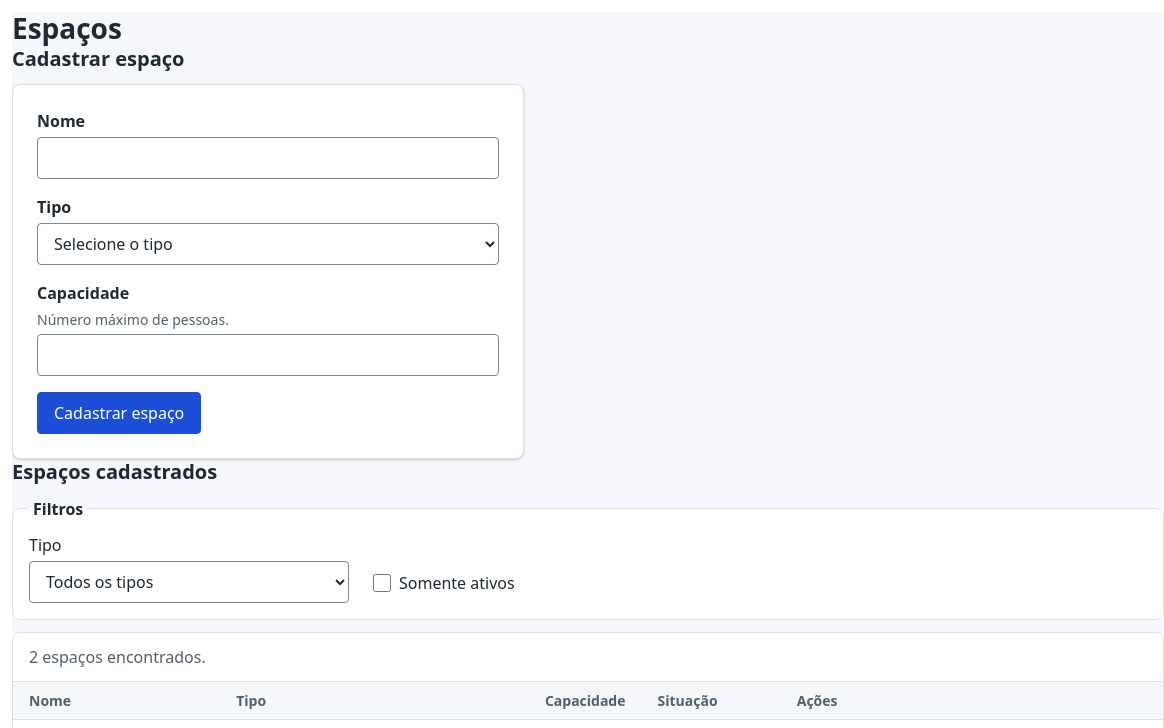
Test: PaginaEspacos › cadastro com sucesso mostra o toast, limpa o formulário e recarrega a lista
Type "Ginásio A" into the field labelled "Nome" at (268, 158), box [37,137,499,179]
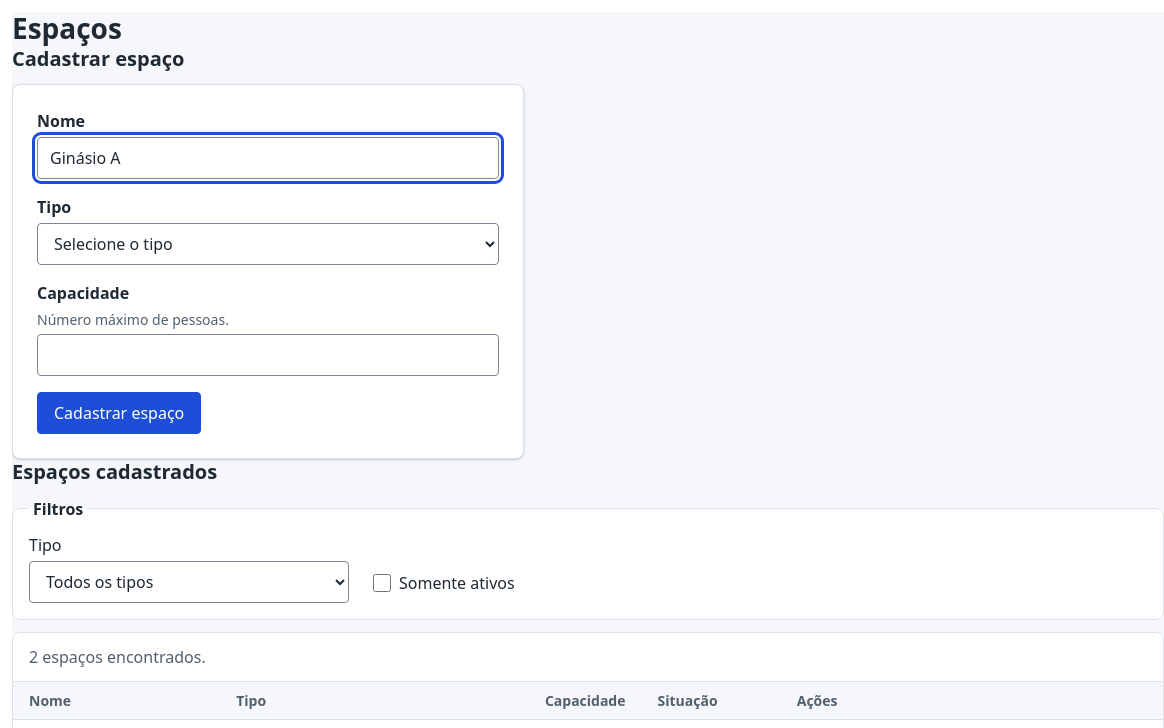
Select "Ginásio" in the 1st dropdown labelled "Tipo" at (268, 244), box [37,223,499,265]
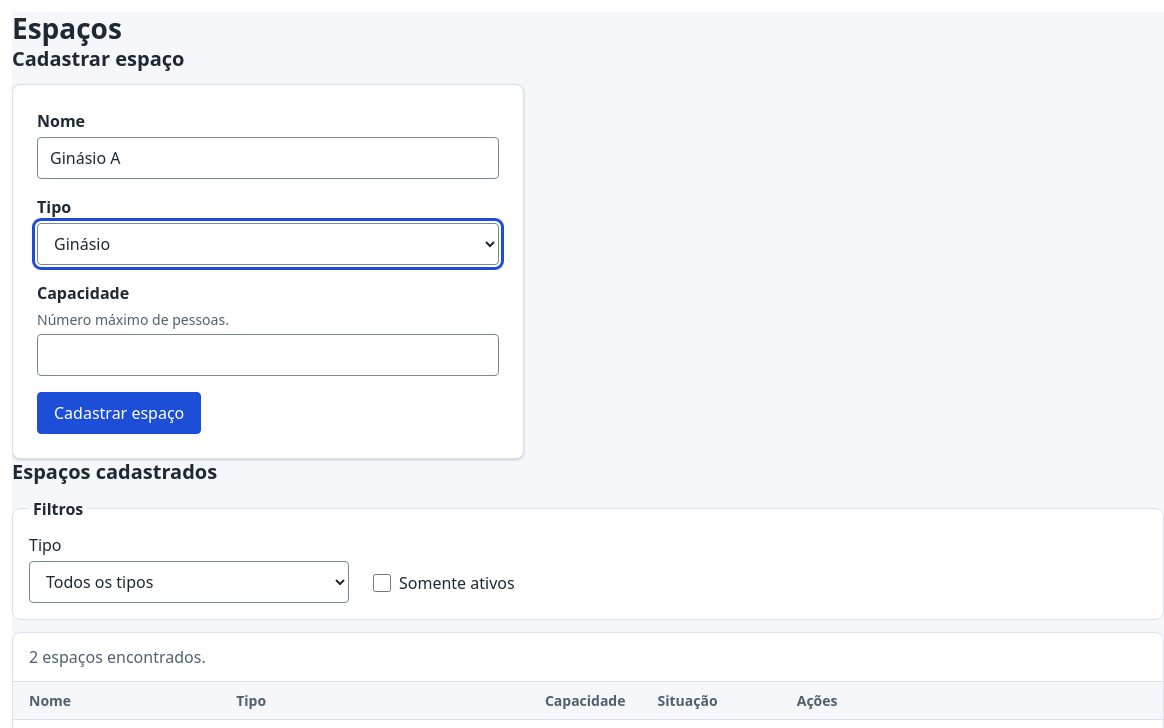
Type "50" into the number field labelled "Capacidade" at (268, 355), box [37,334,499,376]
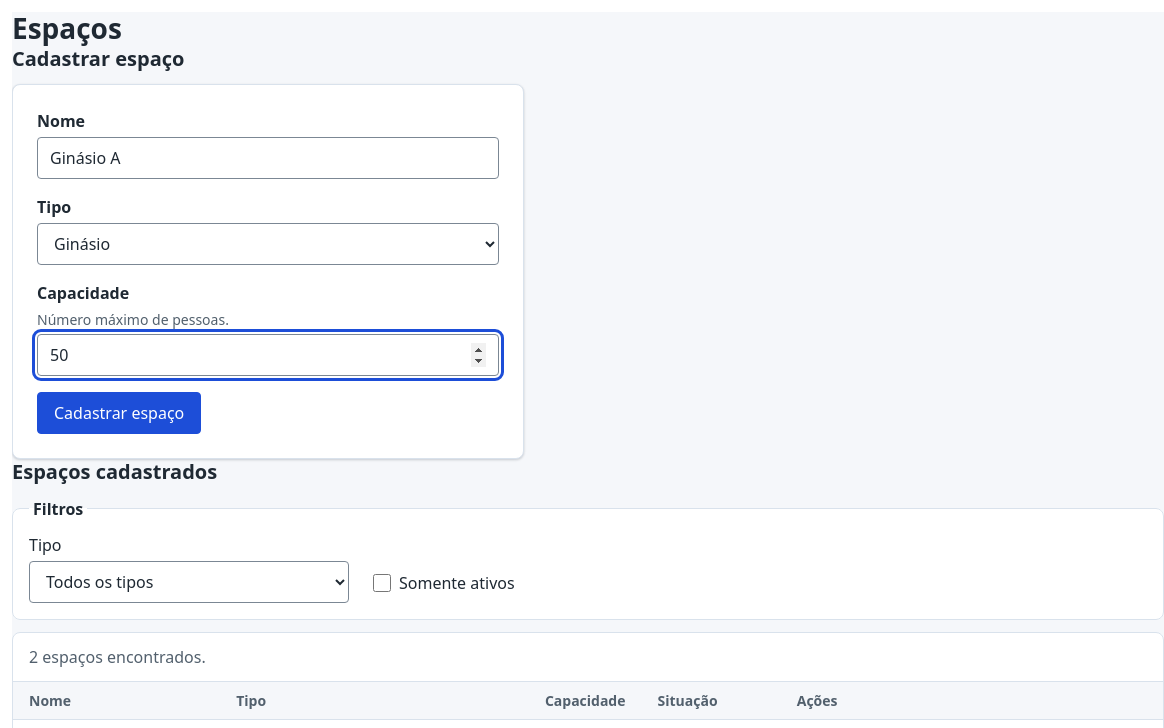
Click the button "Cadastrar espaço" at (119, 413), box [37,392,201,434]
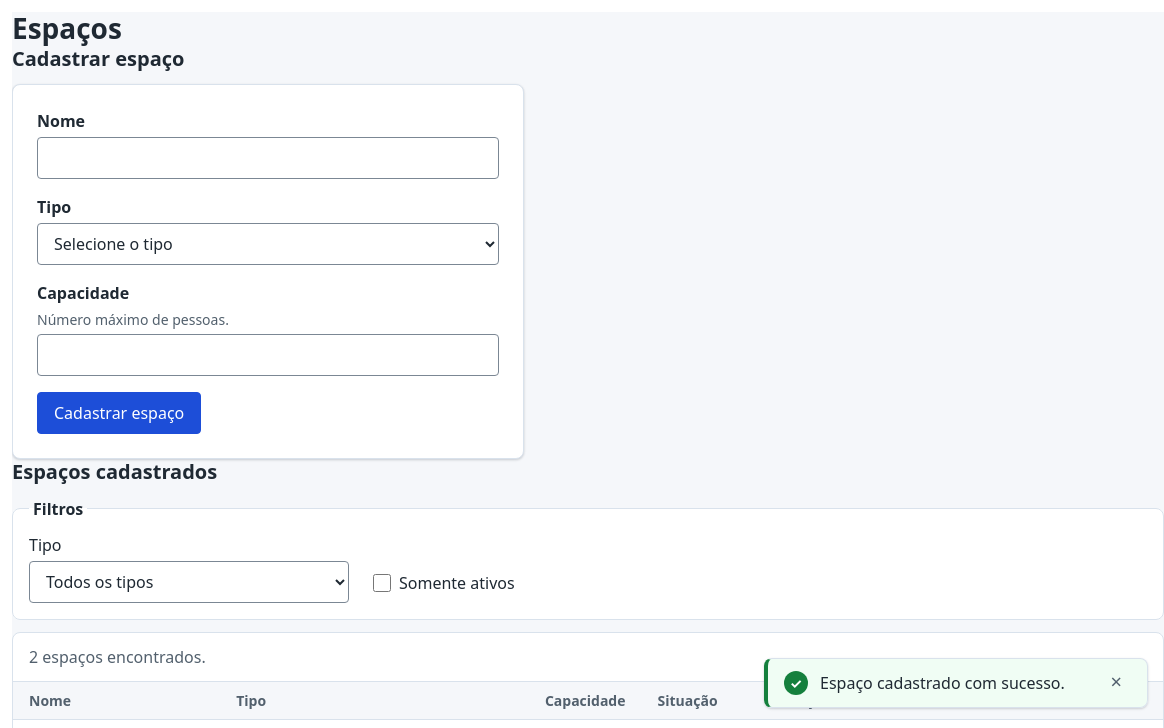
Expected: the text "Espaço cadastrado com sucesso." is shown, [820,671,1090,695]
